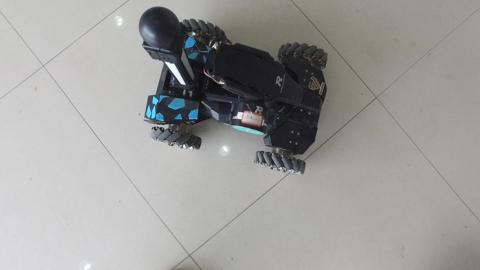chariot: (119, 2, 334, 192)
